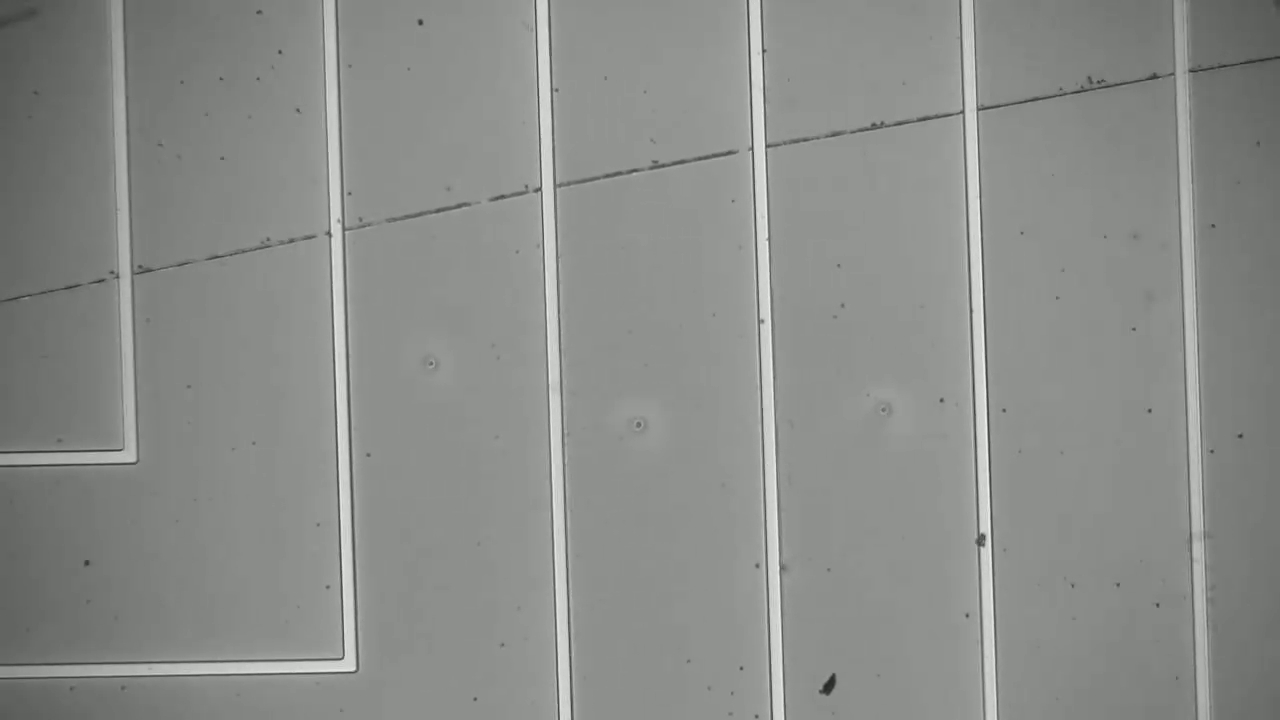scratch: (561, 50, 1280, 184), (4, 184, 542, 304)
stains_enbedded: (971, 525, 998, 551)
